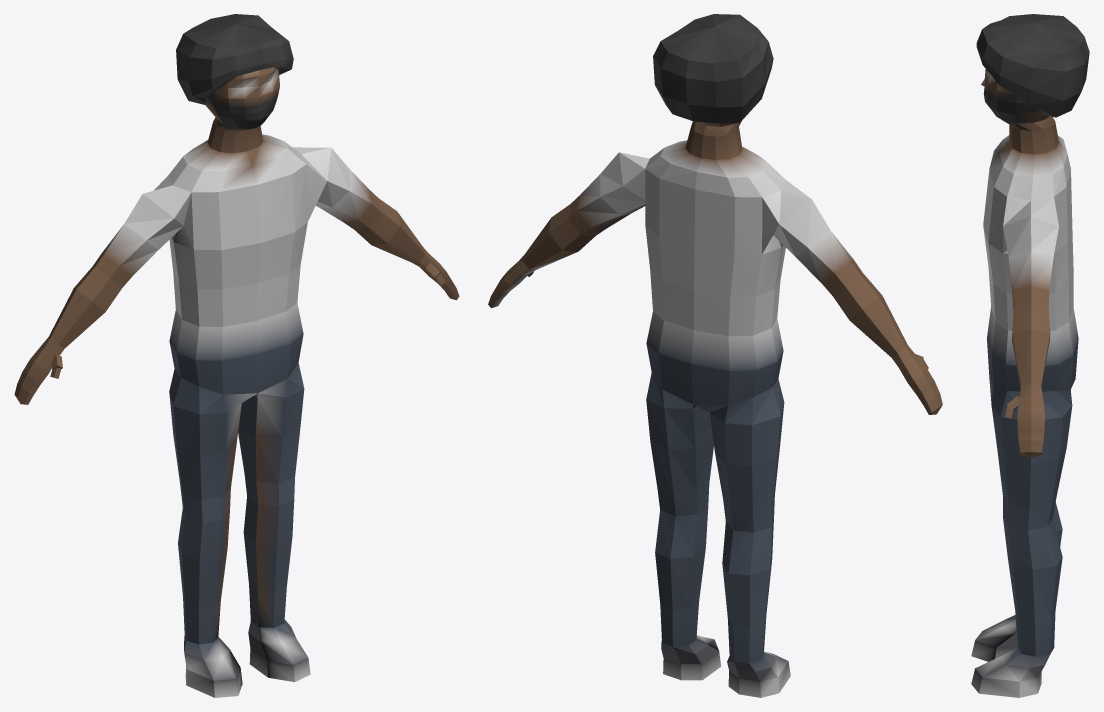
Rendered from char__pessoa__multidao_24.glb.
The picture shows the model from 3 angles, left to right: view 1: azimuth 30°, elevation 25°; view 2: azimuth 150°, elevation 25°; view 3: azimuth 270°, elevation 25°; orthographic projection. The views are drawn at different scales.
Visible parts, largest first — view 1: char__pessoa__multidao_24; view 2: char__pessoa__multidao_24; view 3: char__pessoa__multidao_24.
Boxes of the visible parts, x1,y1,x2,y2 form: char__pessoa__multidao_24: [14, 14, 459, 697]; char__pessoa__multidao_24: [488, 14, 942, 697]; char__pessoa__multidao_24: [971, 14, 1089, 697].
Size of the model in its own units: 1.36 by 1.92 by 0.3166.
